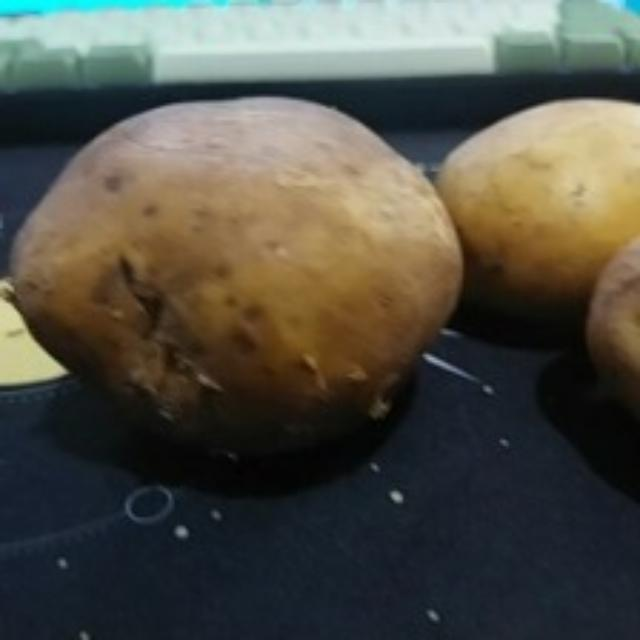Damaged potato: (15, 93, 471, 450)
Potato: (438, 94, 640, 306)
